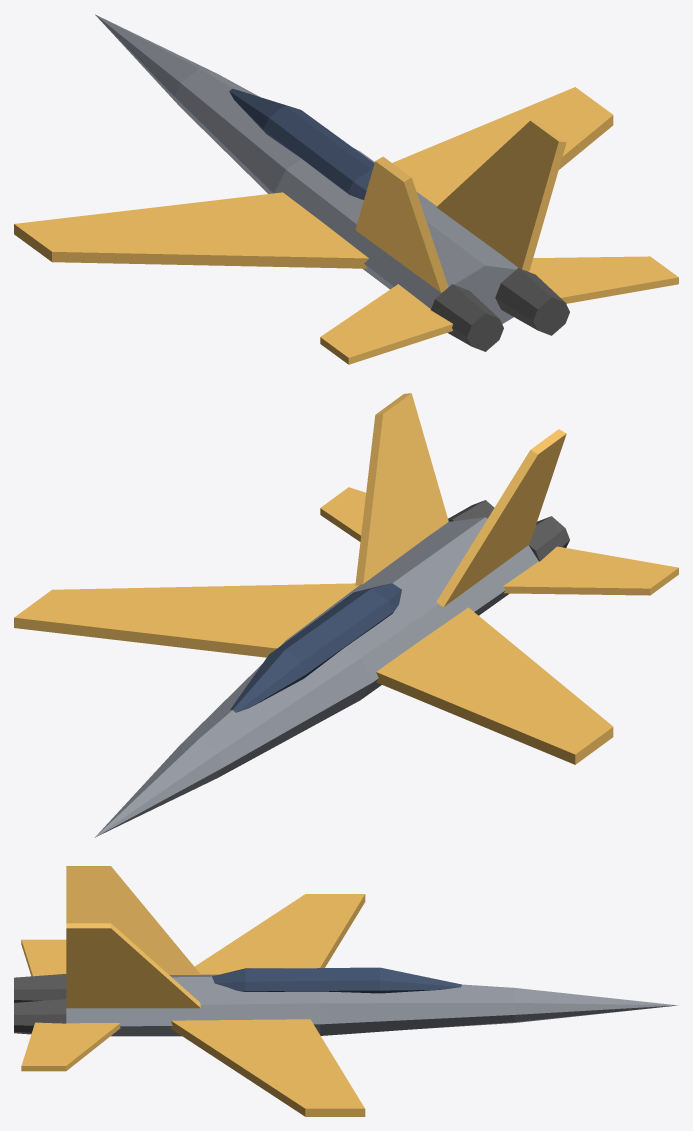
Rendered from enemy_zygzak.glb.
The picture shows the model from 3 angles, top to bottom: view 1: azimuth 30°, elevation 25°; view 2: azimuth 150°, elevation 25°; view 3: azimuth 270°, elevation 25°; orthographic projection. The views are drawn at different scales.
Visible parts, largest first — view 1: E2_Wings, E2_Fuselage, E2_TailFins, E2_Tailplanes, E2_Exhausts, E2_Cockpit; view 2: E2_Wings, E2_Fuselage, E2_TailFins, E2_Tailplanes, E2_Cockpit, E2_Exhausts; view 3: E2_Wings, E2_Fuselage, E2_TailFins, E2_Cockpit, E2_Tailplanes, E2_Exhausts.
Boxes of the visible parts, left/top/right/bottom form: E2_Wings: left=14, top=87, right=613, bottom=268; E2_Fuselage: left=95, top=14, right=527, bottom=323; E2_TailFins: left=355, top=120, right=566, bottom=292; E2_Tailplanes: left=320, top=256, right=678, bottom=364; E2_Exhausts: left=431, top=268, right=569, bottom=351; E2_Cockpit: left=229, top=88, right=374, bottom=199; E2_Wings: left=14, top=583, right=613, bottom=764; E2_Fuselage: left=95, top=517, right=538, bottom=837; E2_TailFins: left=355, top=393, right=566, bottom=607; E2_Tailplanes: left=320, top=487, right=678, bottom=595; E2_Cockpit: left=230, top=583, right=401, bottom=712; E2_Exhausts: left=448, top=500, right=569, bottom=561; E2_Wings: left=170, top=894, right=365, bottom=1116; E2_Fuselage: left=66, top=974, right=678, bottom=1036; E2_TailFins: left=66, top=866, right=200, bottom=1008; E2_Cockpit: left=212, top=967, right=461, bottom=993; E2_Tailplanes: left=21, top=939, right=120, bottom=1071; E2_Exhausts: left=14, top=974, right=66, bottom=1034.
Bounding box in the file's own units: 3.4 × 1.03 × 4.45.
